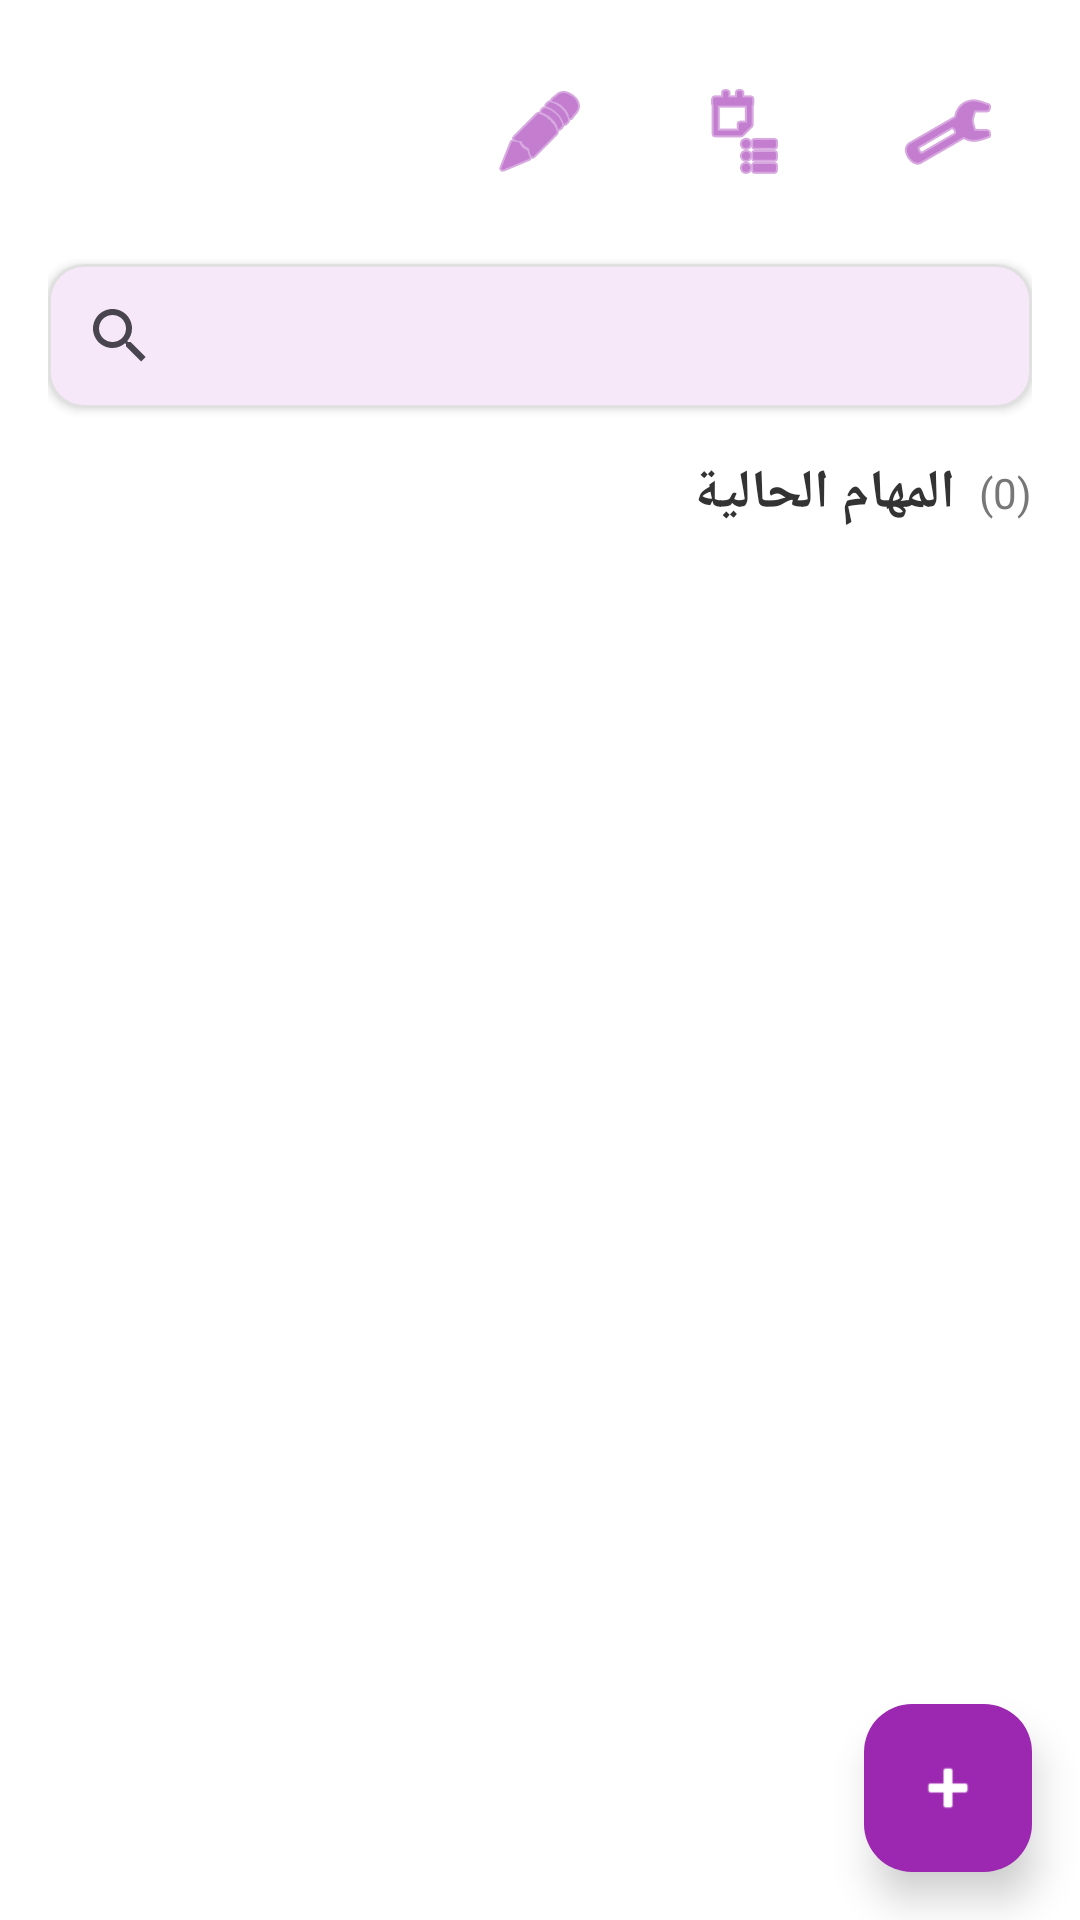

Named icons in this screenshot (1080×1920) and their bounding boxes, (x1, y1, x2, y2):
إضافة مهمة جديدة: (864, 1704, 1032, 1872)
الإعدادات: (905, 99, 991, 165)
التقارير: (711, 89, 778, 174)
ملاحظات: (499, 91, 580, 172)
